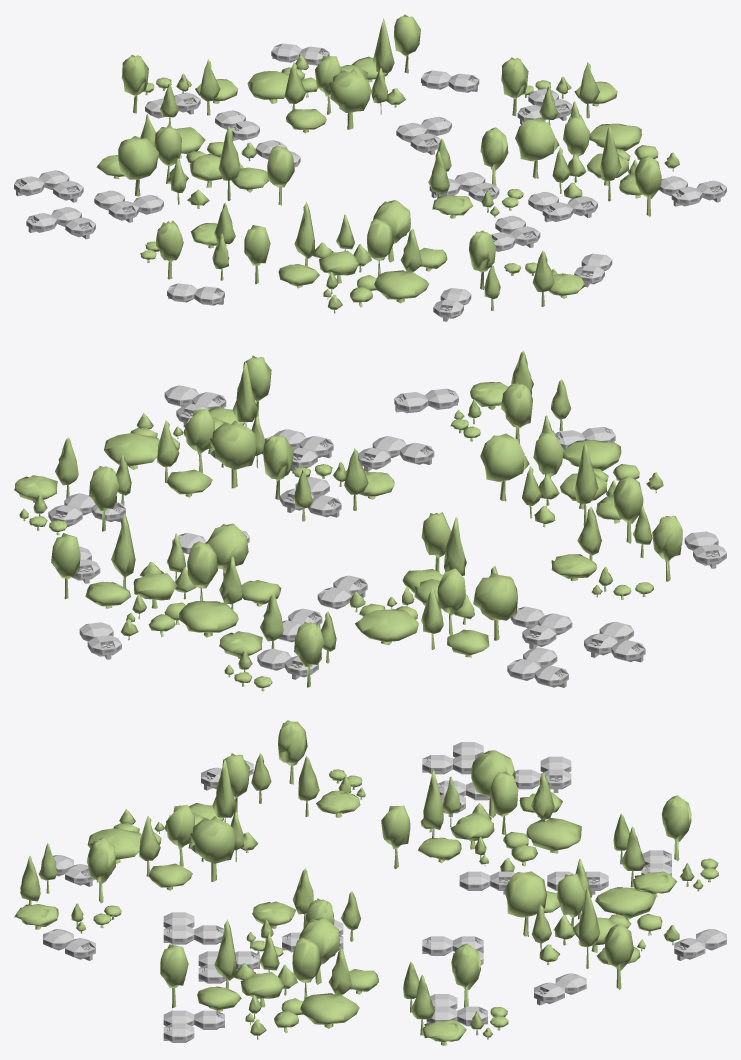
The model's file is arco2_lod4.dae.
3 renders of one model, top to bottom at view 1: azimuth 30°, elevation 25°; view 2: azimuth 150°, elevation 25°; view 3: azimuth 270°, elevation 25°, orthographic. The views are drawn at different scales.
Parts seen in each view (by area): view 1: trees1_lod3_003, trees1_lod3_000, trees1_lod3_001, trees1_lod3_002, trees2_lod3_003, trees2_lod3_002, trees2_lod3_000, trees2_lod3_001, trees2_lod3_004, combo_lod3_000, combo_lod3_030, combo_lod3_004 (+6 smaller); view 2: trees1_lod3_001, trees1_lod3_000, trees1_lod3_003, trees1_lod3_002, trees2_lod3_004, trees2_lod3_001, trees2_lod3_000, trees2_lod3_002, trees2_lod3_003, combo_lod3_016, combo_lod3_000, combo_lod3_009 (+11 smaller); view 3: trees1_lod3_002, trees1_lod3_000, trees1_lod3_001, trees1_lod3_003, trees2_lod3_004, trees2_lod3_001, trees2_lod3_000, trees2_lod3_003, trees2_lod3_002, arco_lod3_020, arco_lod3_022, combo_lod3_027 (+6 smaller).
Boxes of the visible parts, <box> form: trees1_lod3_003: <box>244,200,447,313</box>; trees1_lod3_000: <box>96,114,294,208</box>; trees1_lod3_001: <box>247,14,420,133</box>; trees1_lod3_002: <box>515,101,679,216</box>; trees2_lod3_003: <box>469,230,584,310</box>; trees2_lod3_002: <box>428,127,523,218</box>; trees2_lod3_000: <box>121,54,237,126</box>; trees2_lod3_001: <box>501,57,617,125</box>; trees2_lod3_004: <box>140,203,235,280</box>; combo_lod3_000: <box>26,213,57,232</box>; combo_lod3_030: <box>542,202,573,222</box>; combo_lod3_004: <box>108,201,139,222</box>; trees1_lod3_001: <box>51,514,281,640</box>; trees1_lod3_000: <box>350,512,517,657</box>; trees1_lod3_003: <box>480,415,663,543</box>; trees1_lod3_002: <box>104,355,271,497</box>; trees2_lod3_004: <box>551,506,682,599</box>; trees2_lod3_001: <box>14,437,131,535</box>; trees2_lod3_000: <box>219,593,336,691</box>; trees2_lod3_002: <box>263,434,394,521</box>; trees2_lod3_003: <box>450,350,571,443</box>; combo_lod3_016: <box>87,635,121,659</box>; combo_lod3_000: <box>611,640,645,662</box>; combo_lod3_009: <box>534,665,568,687</box>; trees1_lod3_002: <box>160,917,378,1039</box>; trees1_lod3_000: <box>381,750,581,871</box>; trees1_lod3_001: <box>504,858,679,989</box>; trees1_lod3_003: <box>87,753,258,890</box>; trees2_lod3_004: <box>251,720,365,817</box>; trees2_lod3_001: <box>403,943,508,1045</box>; trees2_lod3_000: <box>613,795,718,897</box>; trees2_lod3_003: <box>14,837,121,933</box>; trees2_lod3_002: <box>246,868,360,956</box>; arco_lod3_020: <box>674,938,705,960</box>; arco_lod3_022: <box>534,982,564,1005</box>; combo_lod3_027: <box>163,925,194,944</box>.
Size of what is drawn, in the model's own units: 326 by 325 by 41.27.
